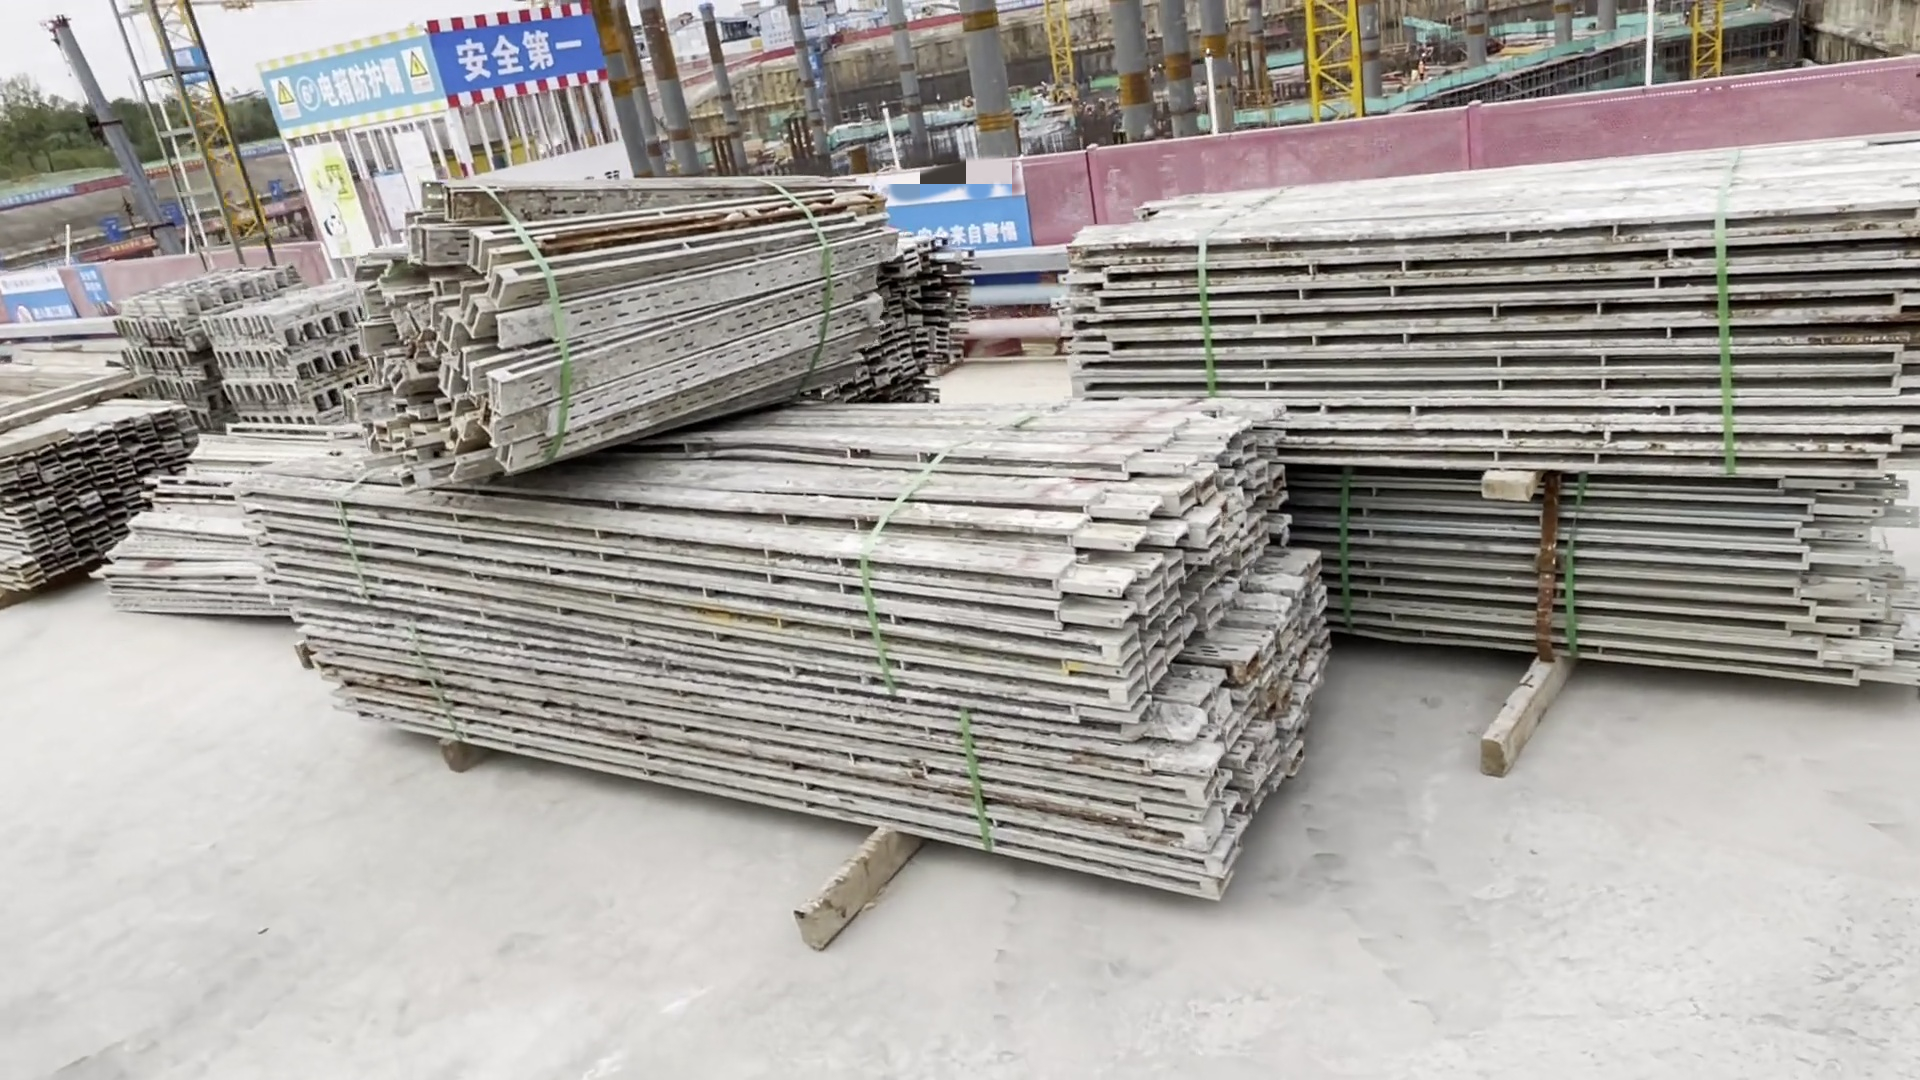slogan: (426, 3, 613, 108)
